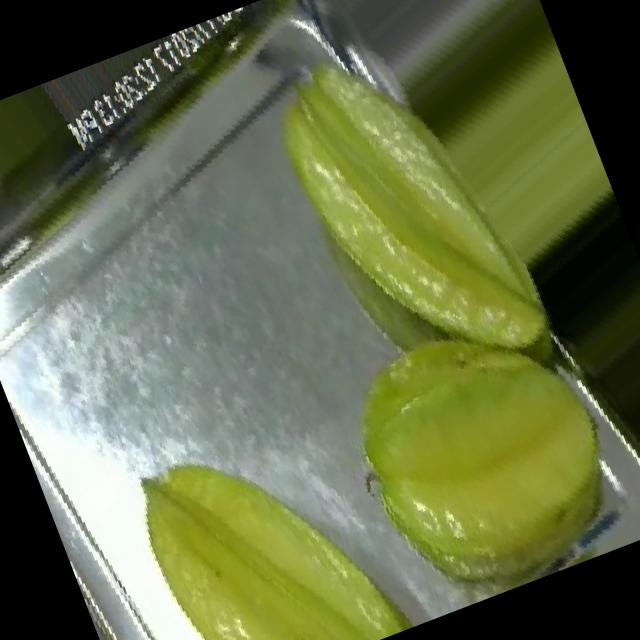fruit: (186, 0, 552, 437), (276, 233, 640, 636), (82, 373, 434, 640)
